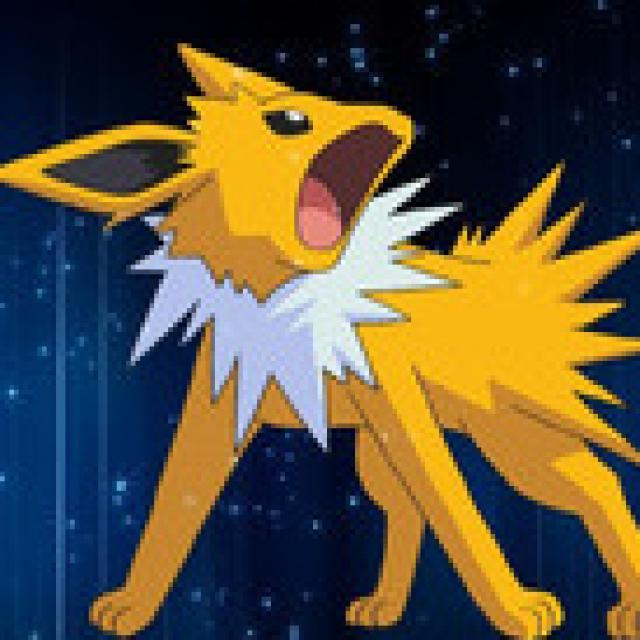Jolteon: (82, 38, 640, 625)
